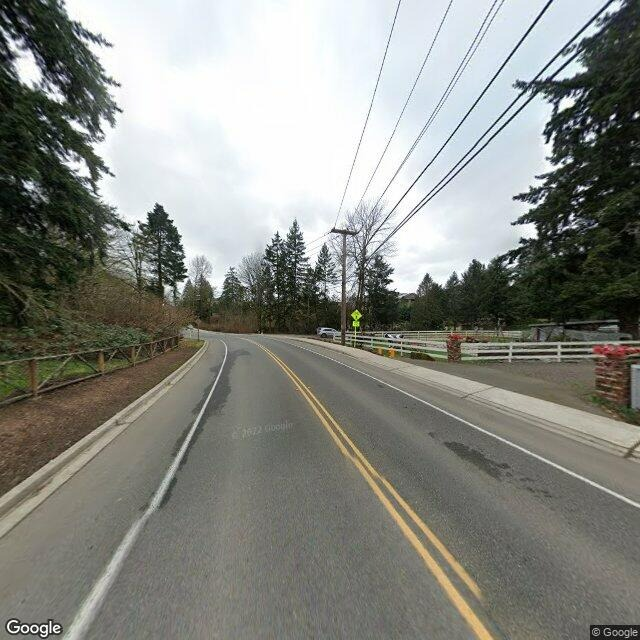hydrant: (385, 343, 397, 363)
